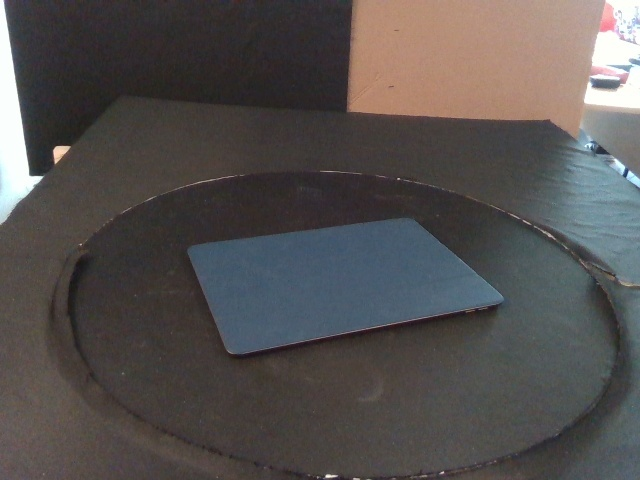laptop: (186, 216, 507, 358)
